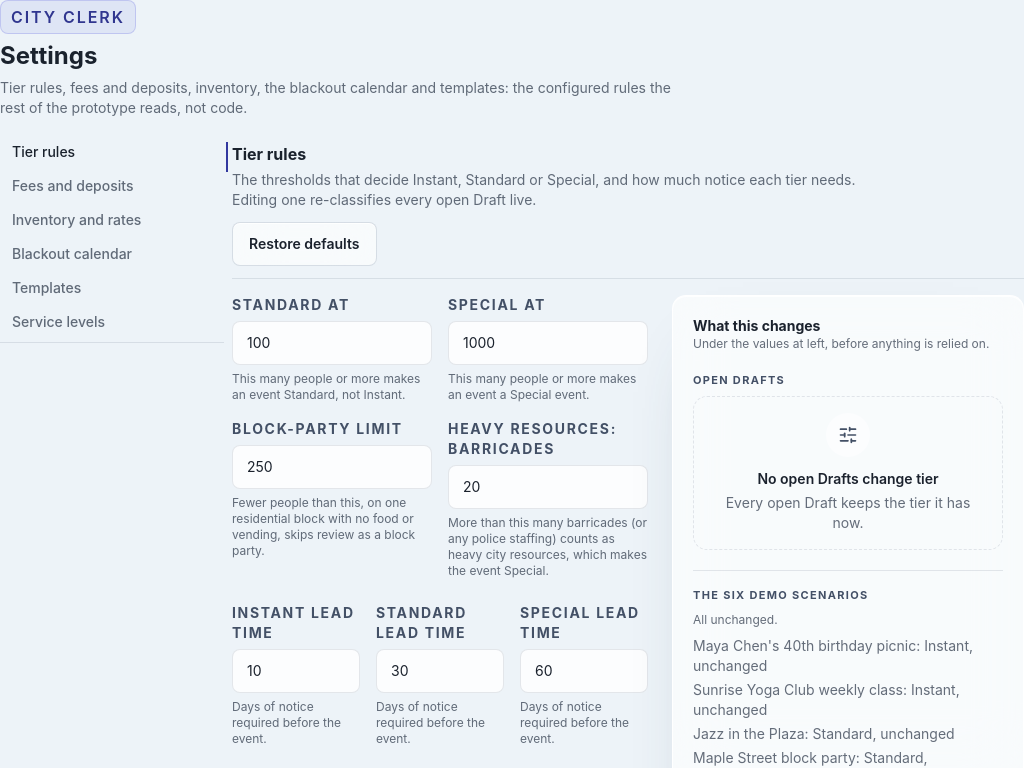
Test: Settings: Tier rules (default section) › Restore defaults asks, then restores the thresholds and lead times
Replace the text in the number field labelled "Standard at" with "40". click: (332, 343)
box: [232,321,432,365]
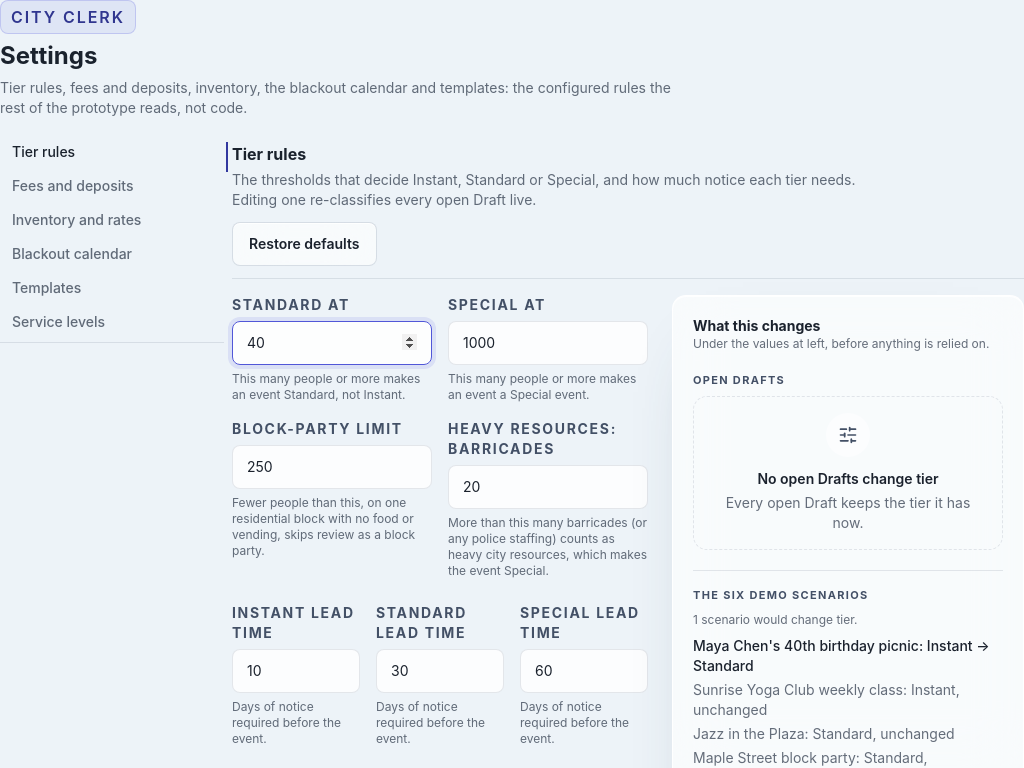
Click the button "Restore defaults". click: (304, 244)
box: [232,222,376,266]
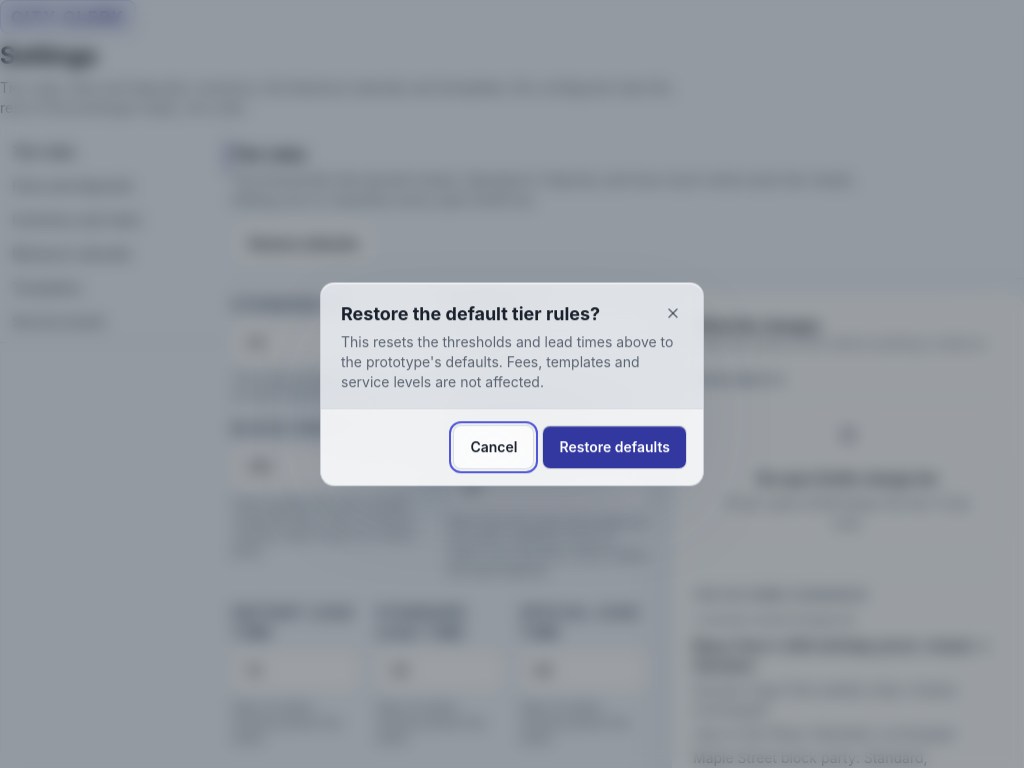
Expected: the heading "Restore the default tier rules?" is shown, [341,303,600,324]
Click the button "Restore defaults". click: (615, 447)
box: [542,425,687,469]
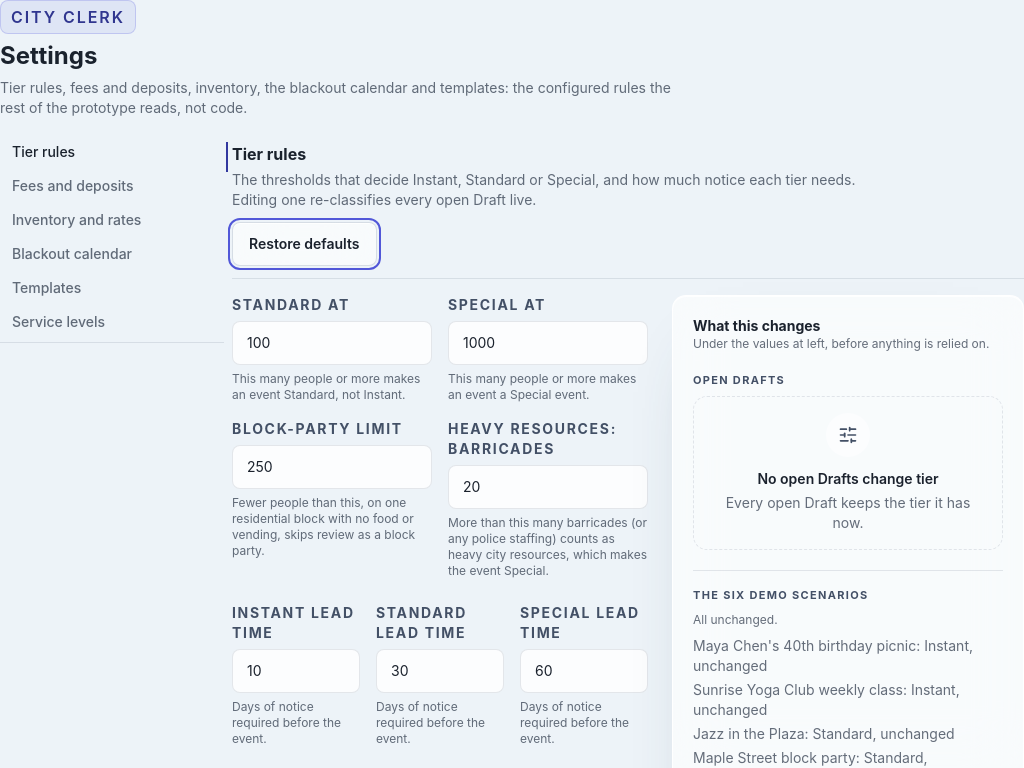
Expected: the number field labelled "Standard at" holds "100", [232,321,432,365]
